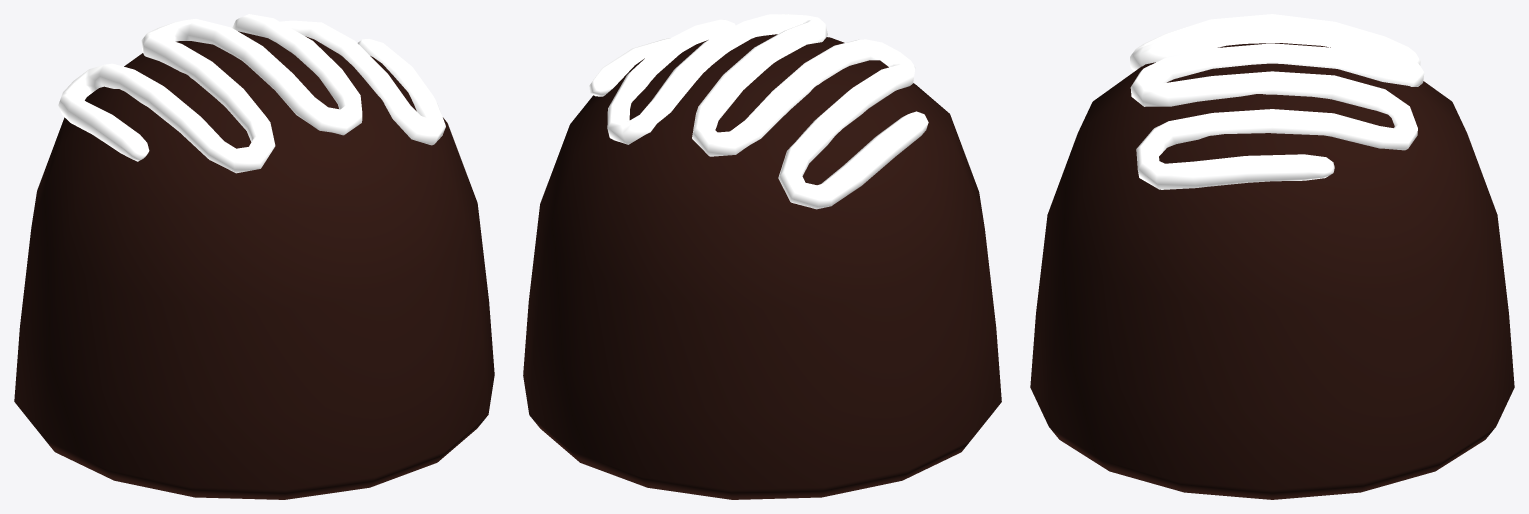
Rendered from Candy_09.glb.
3 views of the same model, side by side, from view 1: azimuth 30°, elevation 25°; view 2: azimuth 150°, elevation 25°; view 3: azimuth 270°, elevation 25° (orthographic).
Visible parts, largest first — view 1: Candy_09; view 2: Candy_09; view 3: Candy_09.
Boxes of the visible parts, x1=… form: Candy_09: x1=14, y1=14, x2=494, y2=499; Candy_09: x1=523, y1=14, x2=1001, y2=499; Candy_09: x1=1030, y1=14, x2=1514, y2=499.
Size of the model in its own units: 1.61 by 1.32 by 1.61.
2 materials, 2 textured.
